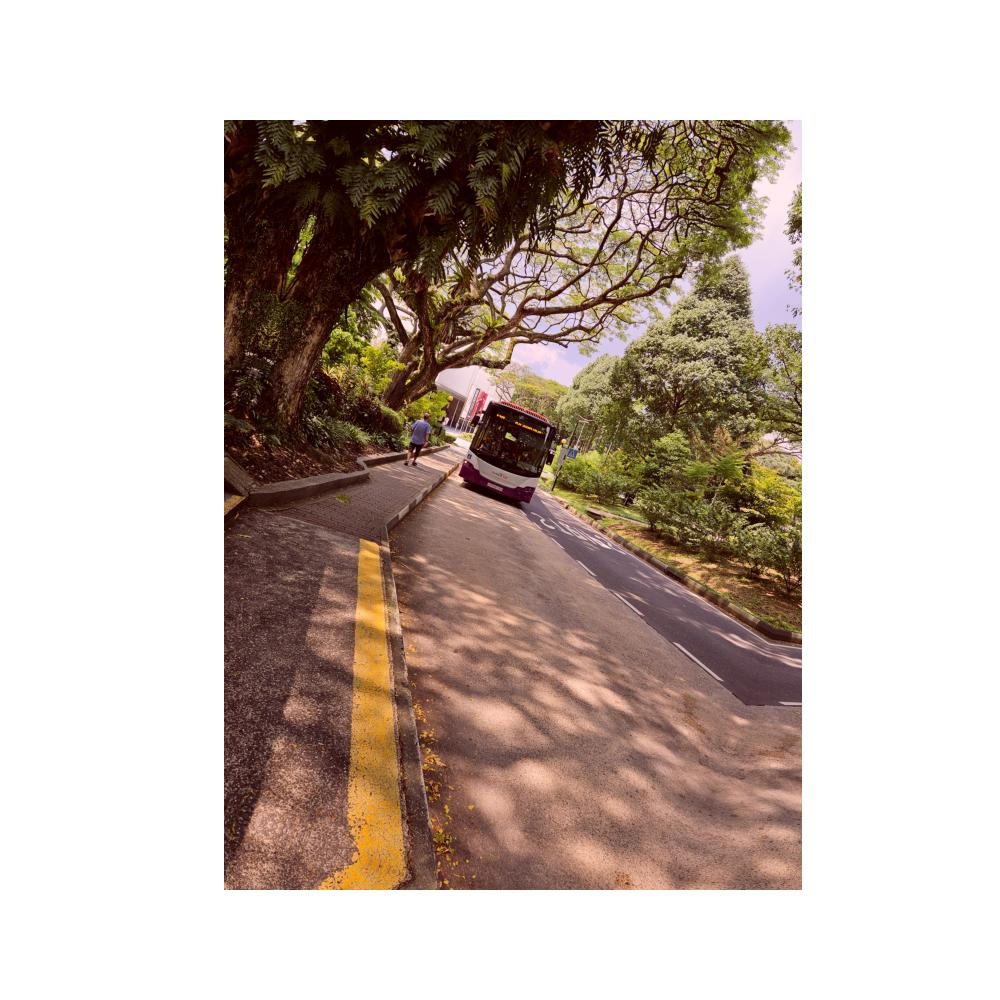bus: (453, 396, 559, 506)
